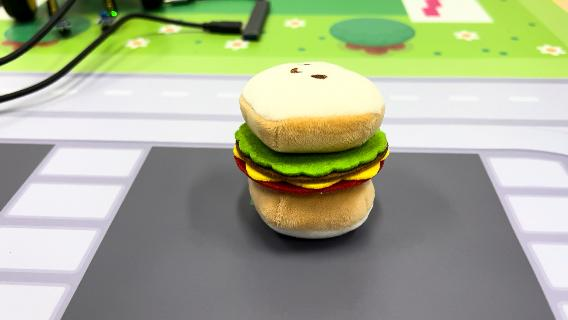sandwich: (232, 59, 393, 241)
